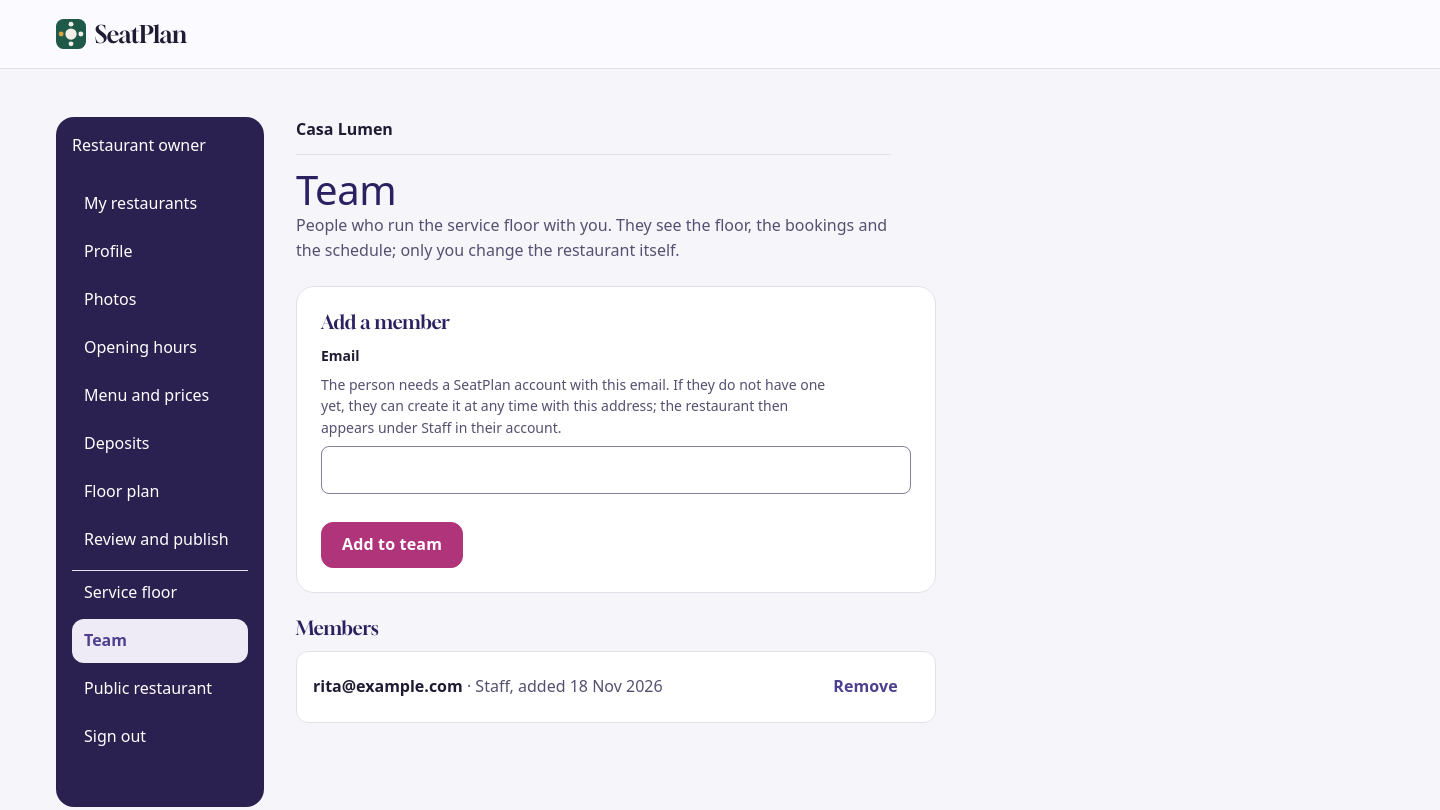
Test case: /owner/:venueId/team › adds a member by email and removes one after asking
The width and height of the screenshot is (1440, 810).
Later steps or results of the test are not shown.
Expected: the text "rita@example.com" is shown, 313,675 -> 463,697
Expected: the text "needs a SeatPlan account with this email" is shown, 321,375 -> 825,437
Type "new.member@example.com" into the field labelled "Email" at x=616, y=470, box 321,446 -> 911,494
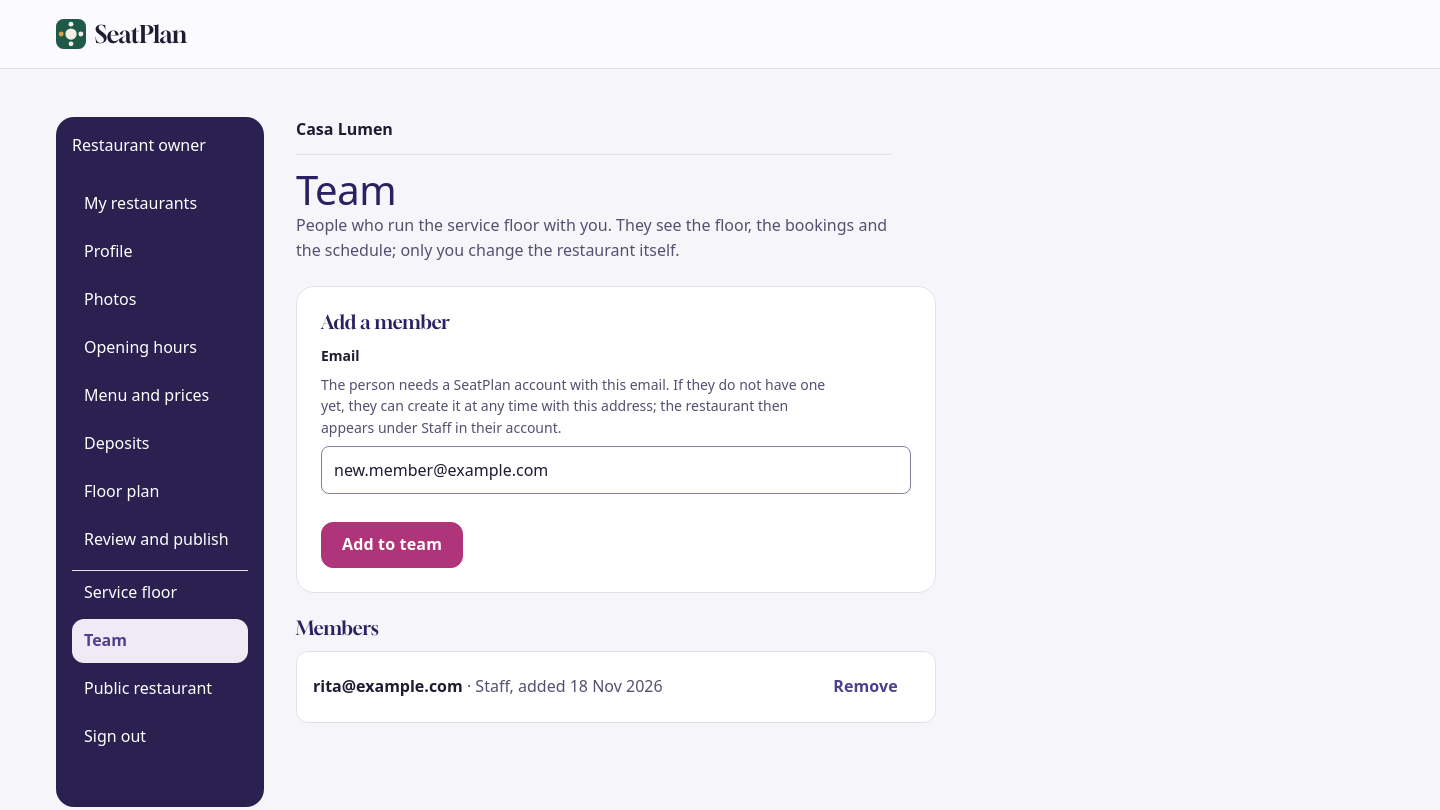
Click the button "Add to team" at x=392, y=545, box 321,522 -> 463,568
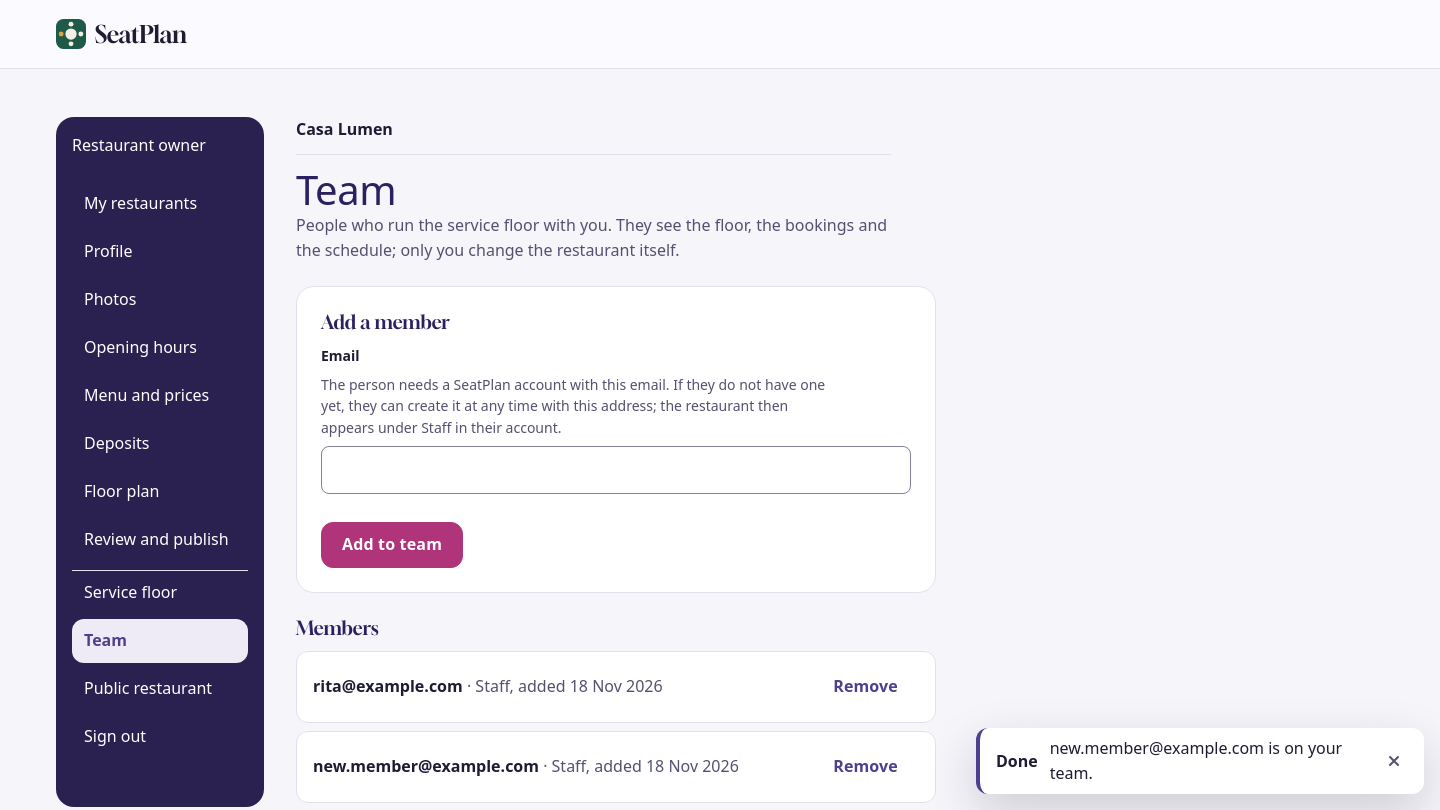
Expected: the text "new.member@example.com" is shown, 313,755 -> 539,777
